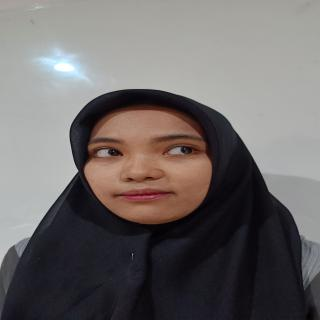Takut: (64, 101, 235, 234)
